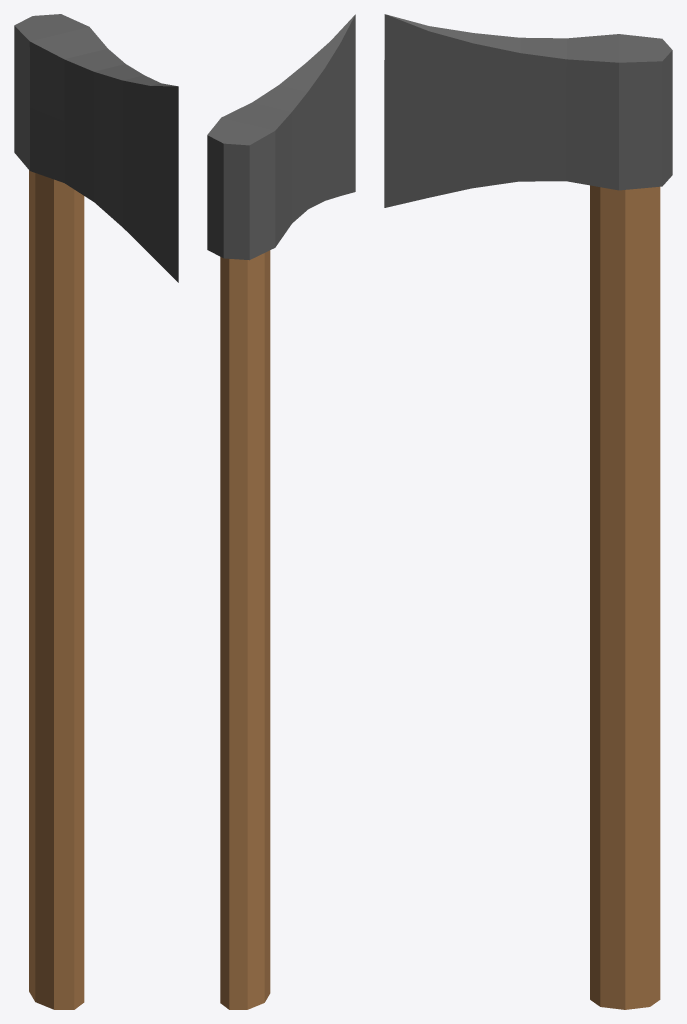
Rendered from woodcutter_axe.fbx.
3 views of the same model, side by side, from view 1: azimuth 30°, elevation 25°; view 2: azimuth 150°, elevation 25°; view 3: azimuth 270°, elevation 25° (orthographic). The views are drawn at different scales.
Visible parts, largest first — view 1: WoodcutterAxeHandle, WoodCutterAxeHead; view 2: WoodcutterAxeHandle, WoodCutterAxeHead; view 3: WoodcutterAxeHandle, WoodCutterAxeHead.
Part boxes in pixels (x1=…): WoodcutterAxeHandle: x1=29, y1=170, x2=84, y2=1009; WoodCutterAxeHead: x1=14, y1=14, x2=178, y2=282; WoodcutterAxeHandle: x1=220, y1=250, x2=270, y2=1009; WoodCutterAxeHead: x1=207, y1=14, x2=355, y2=260; WoodcutterAxeHandle: x1=590, y1=185, x2=660, y2=1009; WoodCutterAxeHead: x1=384, y1=14, x2=672, y2=207.
Bounding box in the file's own units: 5.1 × 81.53 × 21.6.
